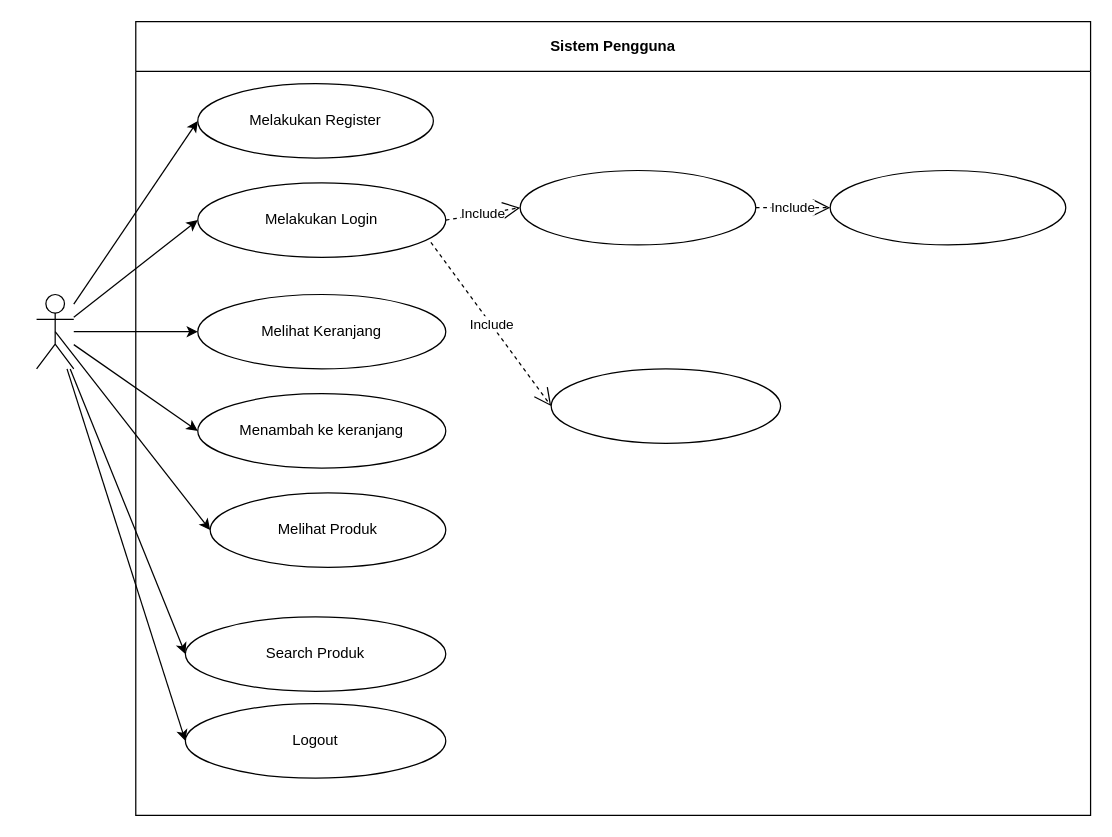
This 1112x837 diagram has some shape labels left out. The centre of each missing label's shape, as x and y in pixels:
"Melakukan pemesanan" goes at point (947, 207).
"Melihat pemesanan" goes at point (665, 405).
"Menambahkan Alamat" goes at point (637, 207).
"Pengguna" goes at point (54, 331).
